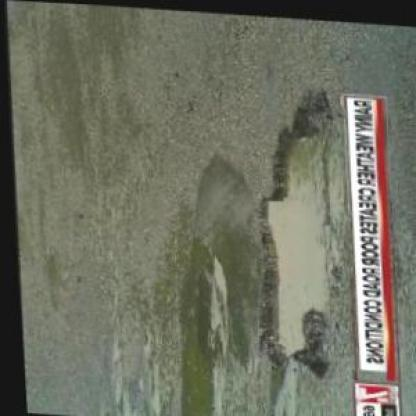pothole: (240, 82, 358, 374)
